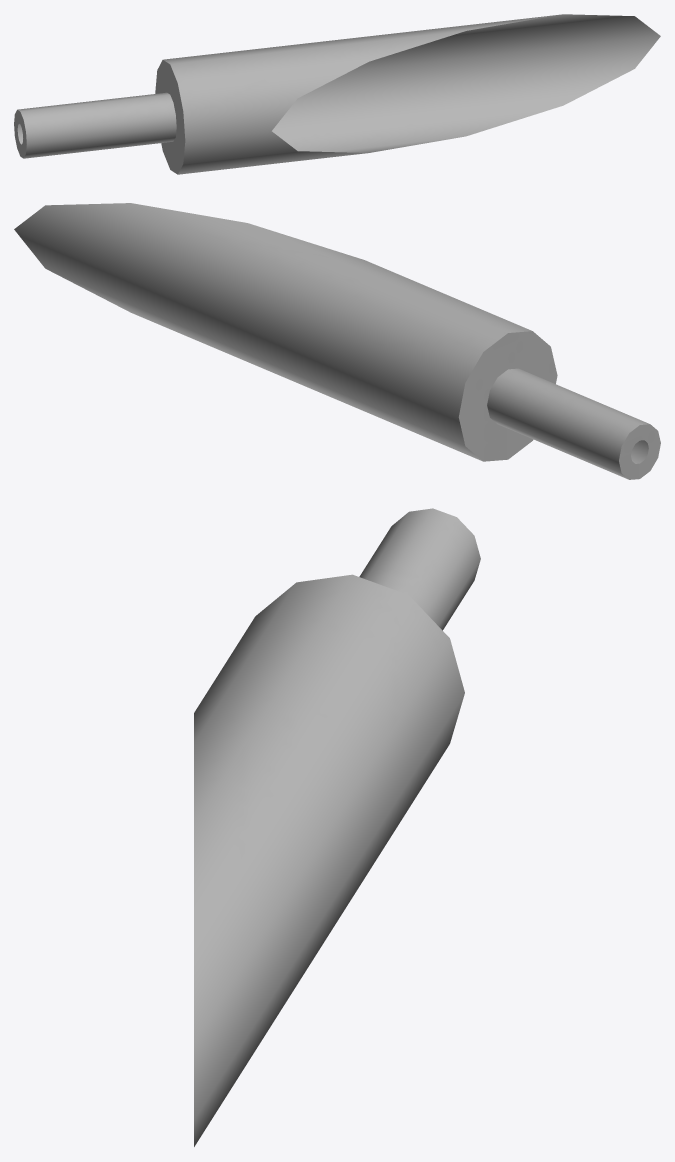
The model's file is original-17.obj.
The picture shows the model from 3 angles, top to bottom: view 1: azimuth 30°, elevation 25°; view 2: azimuth 150°, elevation 25°; view 3: azimuth 270°, elevation 25°; orthographic projection. The views are drawn at different scales.
Visible parts, largest first — view 1: Kreg_Pocket_Hole_3_4_8/Kreg_Pocket_Hole_3_4/mesh13/mesh13-geomet; view 2: Kreg_Pocket_Hole_3_4_8/Kreg_Pocket_Hole_3_4/mesh13/mesh13-geomet; view 3: Kreg_Pocket_Hole_3_4_8/Kreg_Pocket_Hole_3_4/mesh13/mesh13-geomet.
Boxes of the visible parts, x1,y1,x2,y2 form: Kreg_Pocket_Hole_3_4_8/Kreg_Pocket_Hole_3_4/mesh13/mesh13-geomet: (14, 14, 660, 174); Kreg_Pocket_Hole_3_4_8/Kreg_Pocket_Hole_3_4/mesh13/mesh13-geomet: (14, 203, 660, 479); Kreg_Pocket_Hole_3_4_8/Kreg_Pocket_Hole_3_4/mesh13/mesh13-geomet: (194, 508, 480, 1146).
Bounding box in the file's own units: 0.0746 × 0.0128 × 0.0158.
